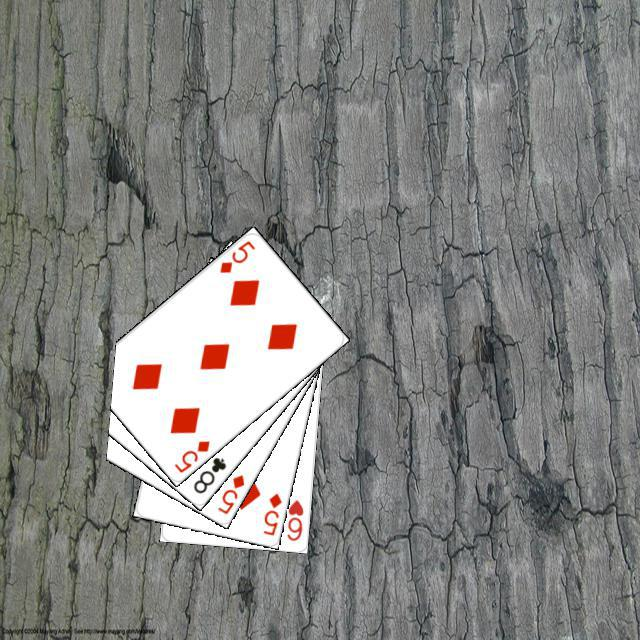5d: (214, 236, 257, 275), (169, 435, 211, 474), (212, 470, 246, 516), (258, 488, 284, 537)
6h: (282, 495, 305, 542)
8c: (188, 452, 228, 495)
